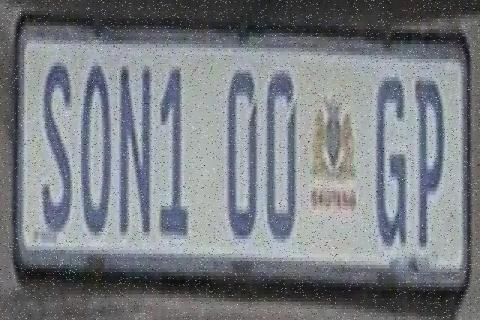LicensePlate: (7, 5, 476, 308)
